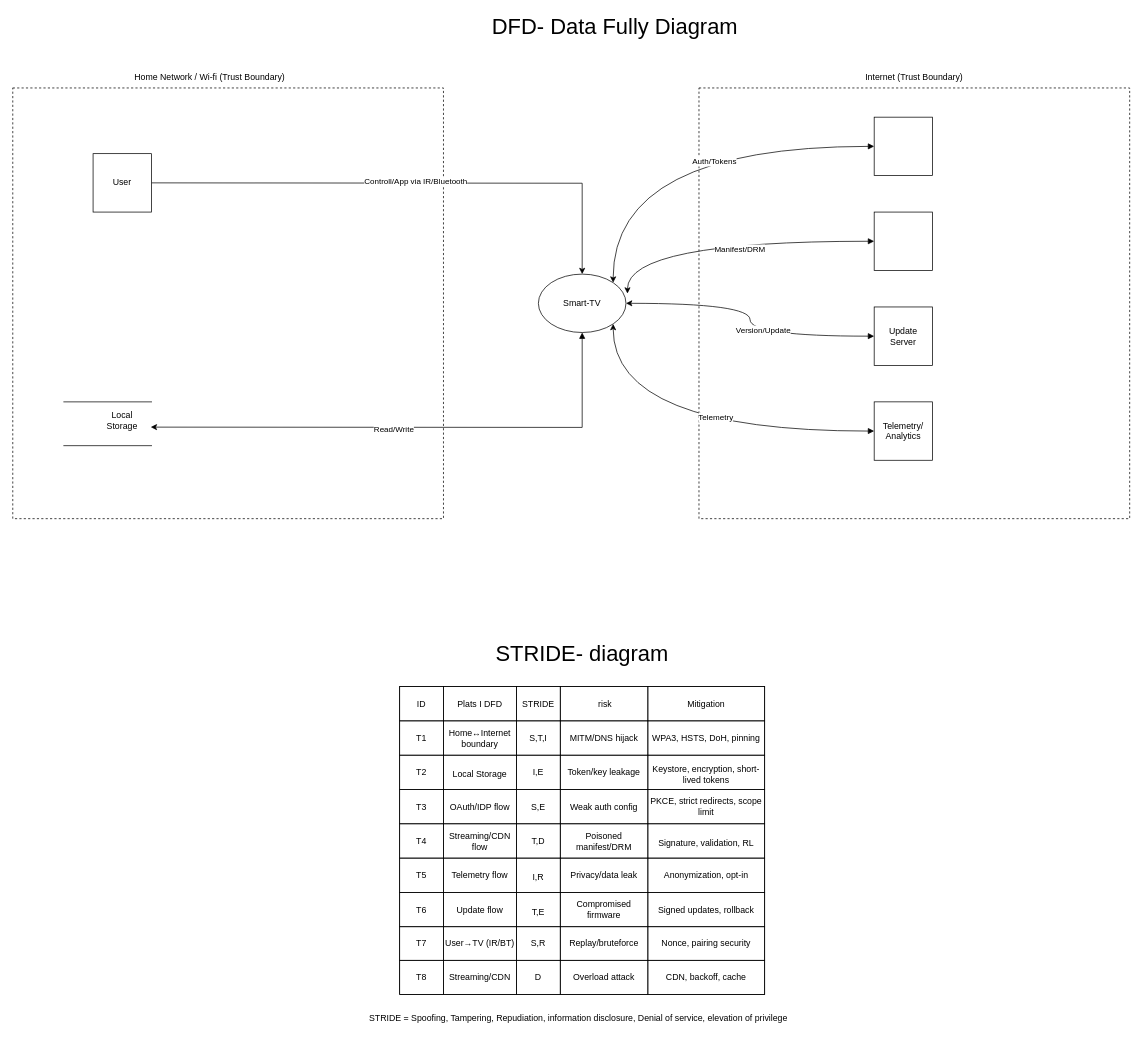
This 1142x1042 diagram has some shape labels left out. Here are the shapes that lost their labels. From the top down, the centre of each, then its label:
At point (903, 146): "OAuth/IDP".
At point (903, 240): "Straming/CDN".
